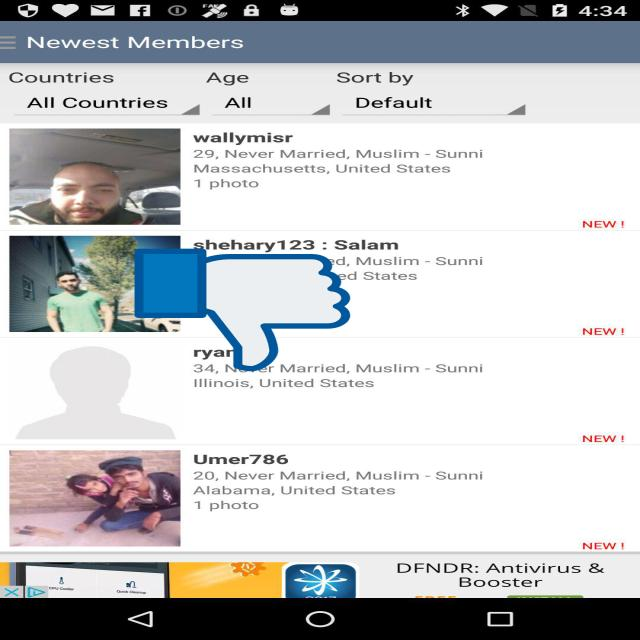obstruction: (135, 246, 350, 374)
